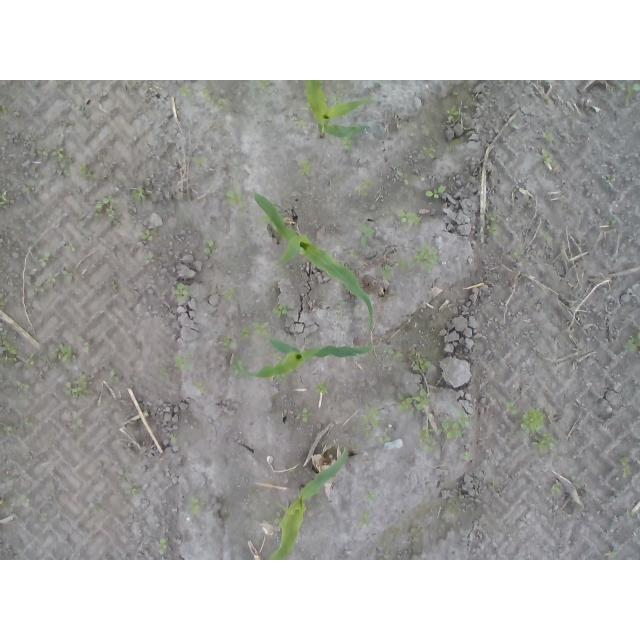Maize: (252, 192, 374, 337), (268, 446, 349, 560), (247, 337, 372, 380), (303, 80, 372, 141)
Weeds: (521, 406, 558, 450), (399, 387, 434, 422), (439, 407, 473, 442), (415, 246, 441, 274), (51, 144, 72, 177), (65, 374, 96, 396), (202, 81, 224, 112), (359, 404, 382, 432), (0, 417, 32, 436), (0, 327, 16, 365), (616, 80, 640, 104), (355, 223, 377, 249), (227, 353, 250, 376), (222, 185, 244, 209), (418, 425, 434, 453), (410, 355, 433, 374), (354, 178, 374, 199), (95, 195, 113, 218), (624, 328, 640, 353), (424, 184, 448, 200), (399, 208, 423, 224), (173, 351, 193, 369), (176, 282, 193, 302), (55, 343, 73, 361), (296, 159, 313, 178), (79, 162, 96, 181), (254, 320, 272, 337), (621, 453, 633, 478), (485, 214, 497, 239), (298, 407, 314, 424), (272, 302, 288, 318), (104, 368, 120, 384), (445, 105, 459, 123), (312, 381, 329, 395), (507, 400, 520, 418), (422, 145, 437, 160), (179, 83, 194, 98), (15, 380, 32, 393), (399, 259, 417, 271), (239, 323, 254, 337), (293, 116, 308, 130), (191, 495, 202, 514), (203, 239, 216, 255), (397, 169, 409, 186), (358, 511, 369, 529), (193, 155, 207, 169), (223, 287, 238, 300), (606, 545, 619, 560), (132, 185, 144, 201), (139, 229, 154, 241), (130, 484, 143, 497), (160, 535, 169, 553), (383, 264, 393, 280), (272, 350, 281, 366), (344, 136, 353, 152), (248, 80, 257, 96), (32, 287, 48, 296), (387, 350, 401, 360), (543, 149, 553, 163), (64, 243, 76, 254), (606, 215, 618, 226), (0, 190, 8, 206), (27, 352, 36, 366), (143, 256, 157, 265), (368, 490, 379, 501), (551, 482, 561, 494), (378, 436, 391, 445), (543, 131, 554, 141), (463, 451, 473, 462), (258, 80, 270, 89), (543, 231, 553, 241), (447, 503, 457, 513), (224, 335, 233, 346), (333, 96, 343, 105), (48, 271, 56, 282), (0, 104, 8, 115), (38, 255, 50, 262)
